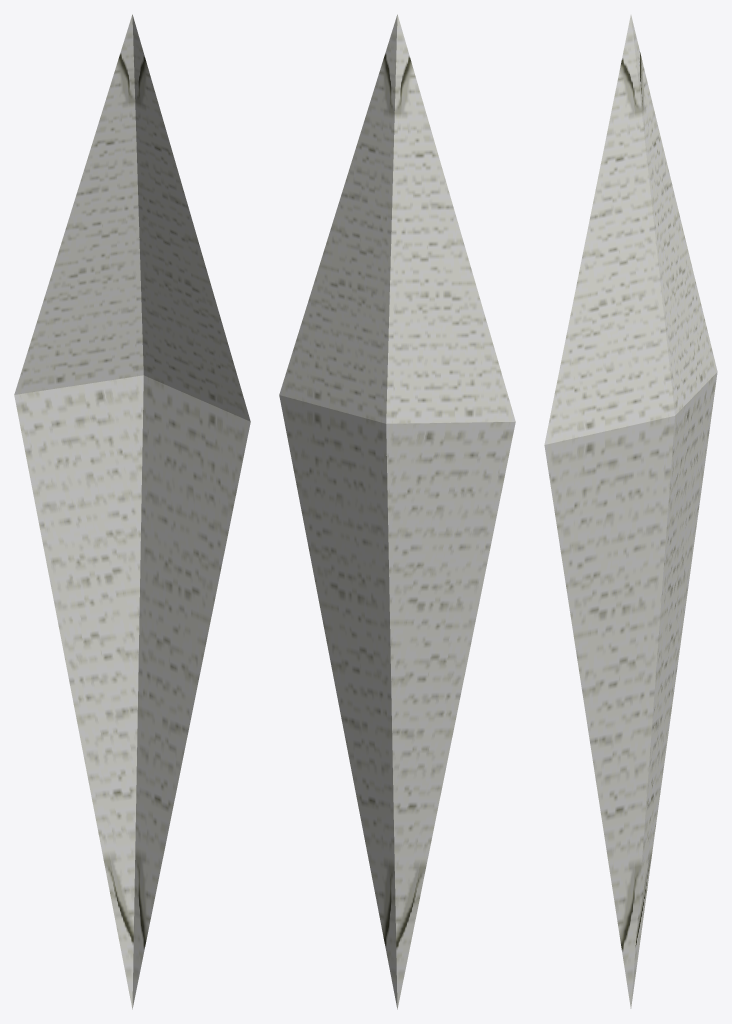
Rendered from Eckverschluß [Kalk]_2134.glb.
The picture shows the model from 3 angles, left to right: view 1: azimuth 30°, elevation 25°; view 2: azimuth 210°, elevation 25°; view 3: azimuth 270°, elevation 25°; orthographic projection.
Parts seen in each view (by area): view 1: pPlaneShape11, pPlaneShape10, pPlaneShape8, pPlaneShape9; view 2: pPlaneShape11, pPlaneShape10, pPlaneShape8, pPlaneShape9; view 3: pPlaneShape10, pPlaneShape9, pPlaneShape11, pPlaneShape8.
Boxes of the visible parts, x1=… form: pPlaneShape11: x1=14, y1=375, x2=143, y2=1009; pPlaneShape10: x1=132, y1=375, x2=250, y2=1007; pPlaneShape8: x1=14, y1=14, x2=143, y2=394; pPlaneShape9: x1=132, y1=15, x2=250, y2=421; pPlaneShape11: x1=386, y1=421, x2=515, y2=1009; pPlaneShape10: x1=279, y1=395, x2=397, y2=1007; pPlaneShape8: x1=386, y1=14, x2=515, y2=423; pPlaneShape9: x1=279, y1=15, x2=397, y2=423; pPlaneShape10: x1=544, y1=416, x2=674, y2=1008; pPlaneShape9: x1=544, y1=15, x2=674, y2=444; pPlaneShape11: x1=631, y1=372, x2=717, y2=1008; pPlaneShape8: x1=631, y1=15, x2=717, y2=415.
Size of the model in its own units: 0.0549 by 0.3486 by 0.0549.
Materials: 4 (4 with a texture image).
